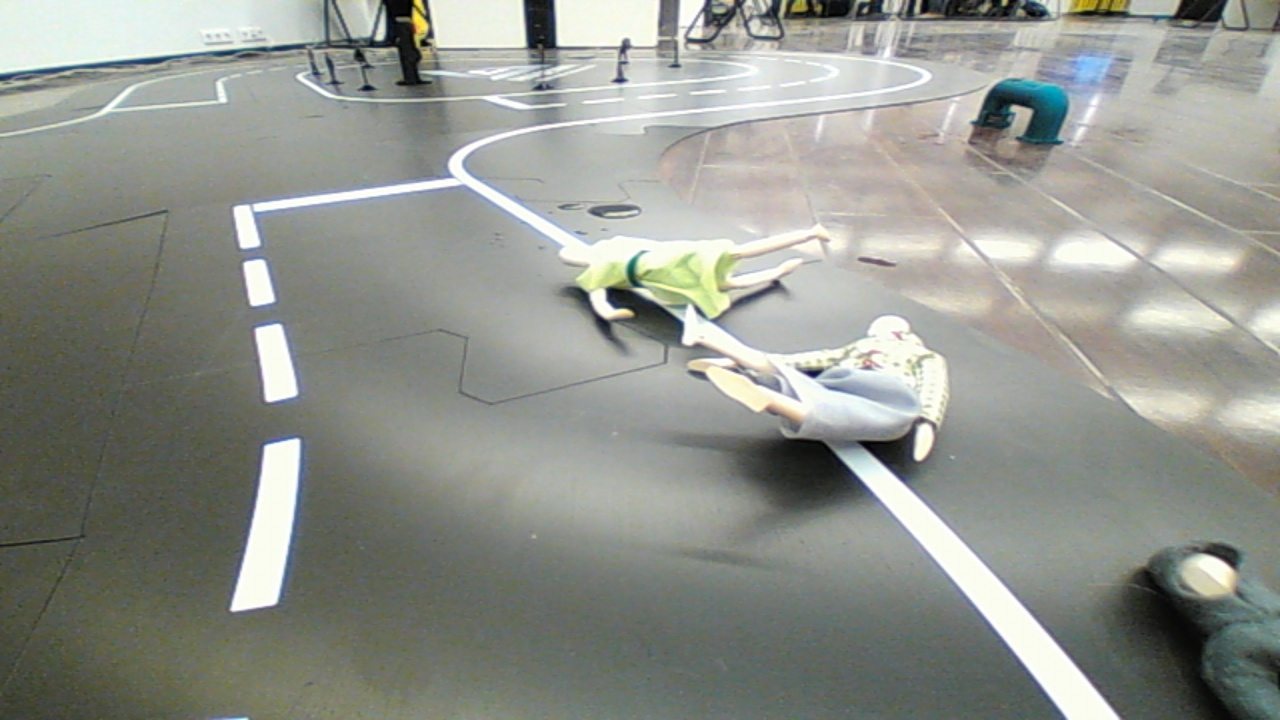Road works: (660, 305, 975, 470), (517, 207, 842, 332)
